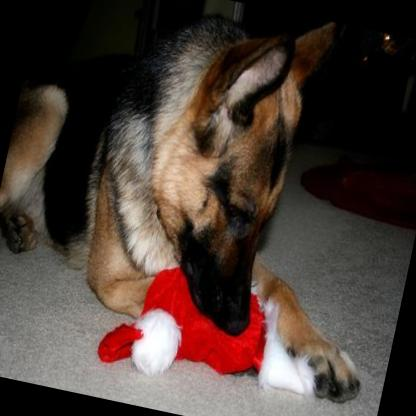German_shepherd: (0, 0, 416, 406)
